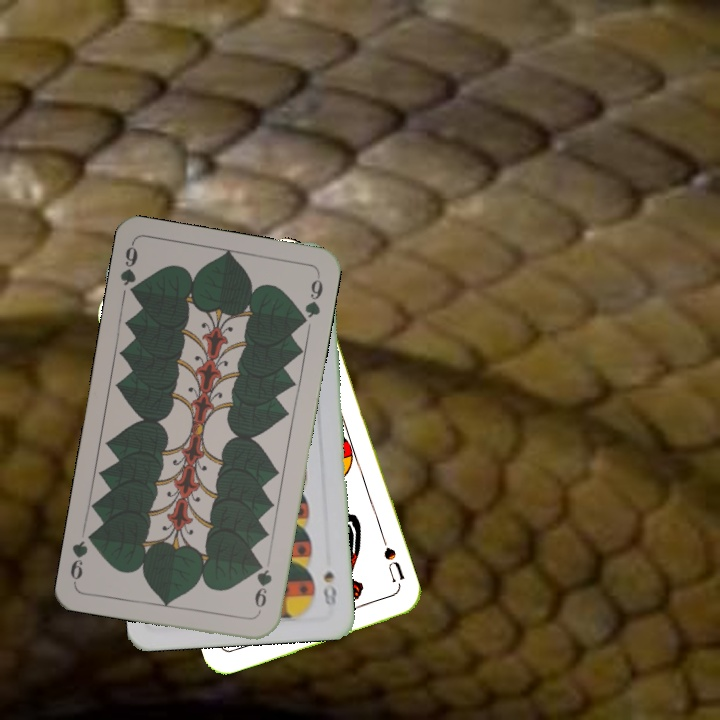G9: (116, 240, 141, 301), (250, 557, 275, 616)
S8: (319, 566, 339, 608)
SU: (378, 535, 407, 585)
